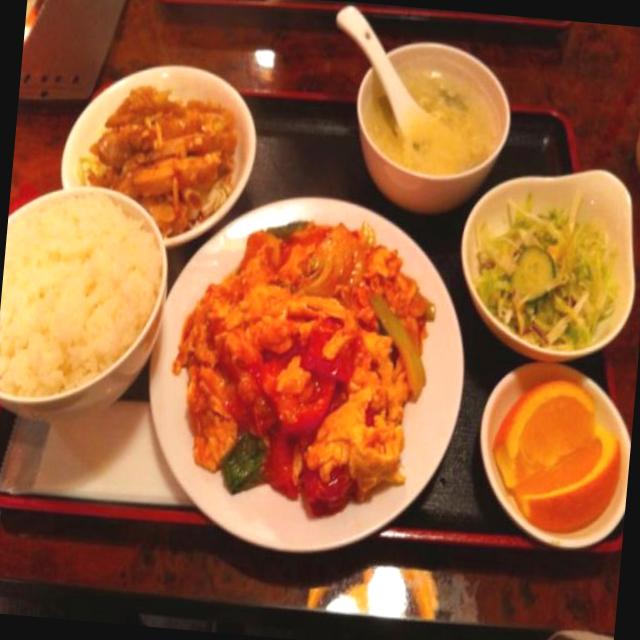Rice: (0, 176, 169, 418)
